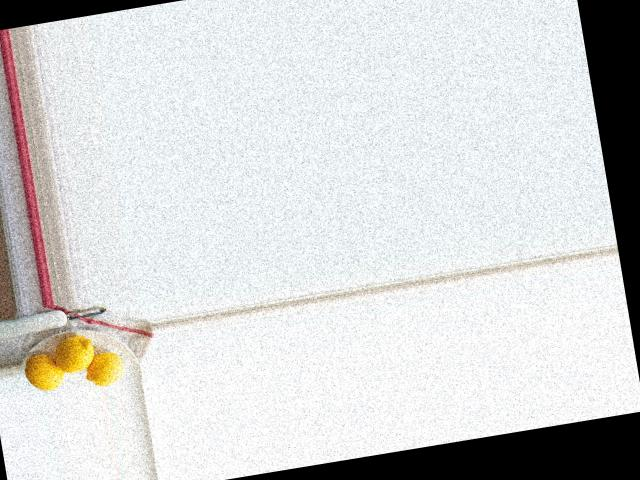lemon: (20, 354, 66, 394)
